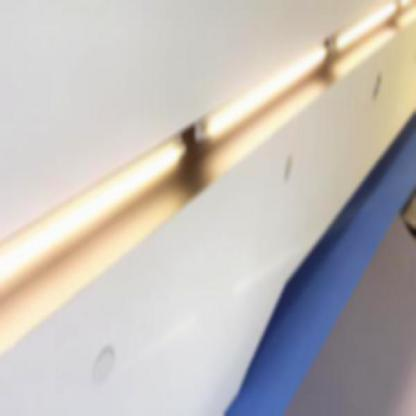light_on: (0, 129, 190, 301), (217, 40, 330, 136), (332, 0, 409, 65)
